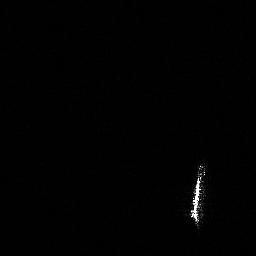ship: (185, 159, 210, 231)
